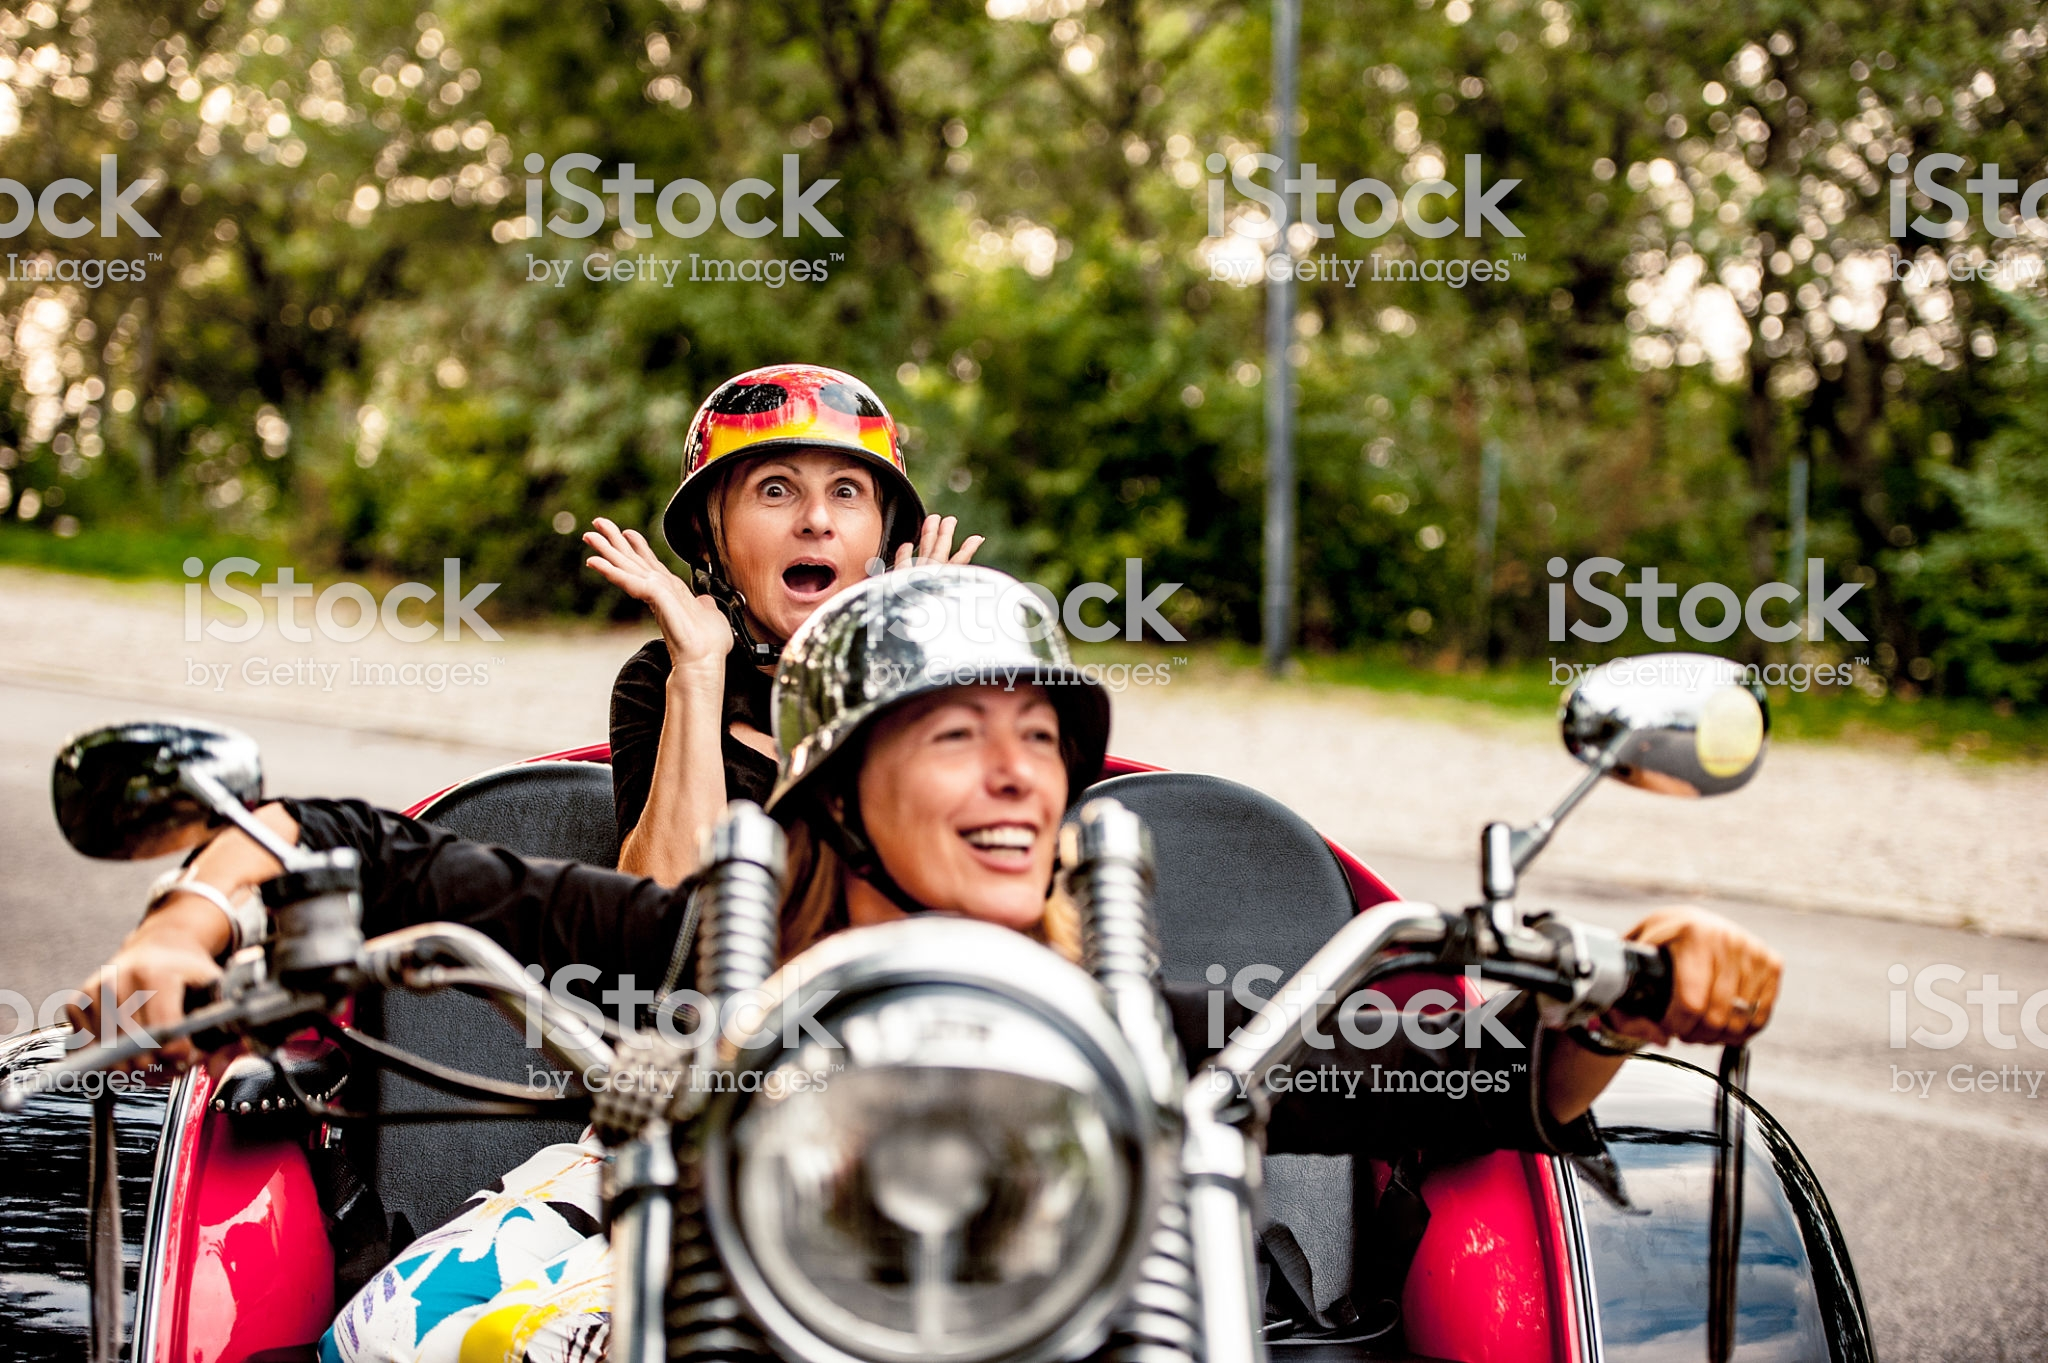helmet: (709, 557, 1102, 724), (667, 341, 965, 522)
